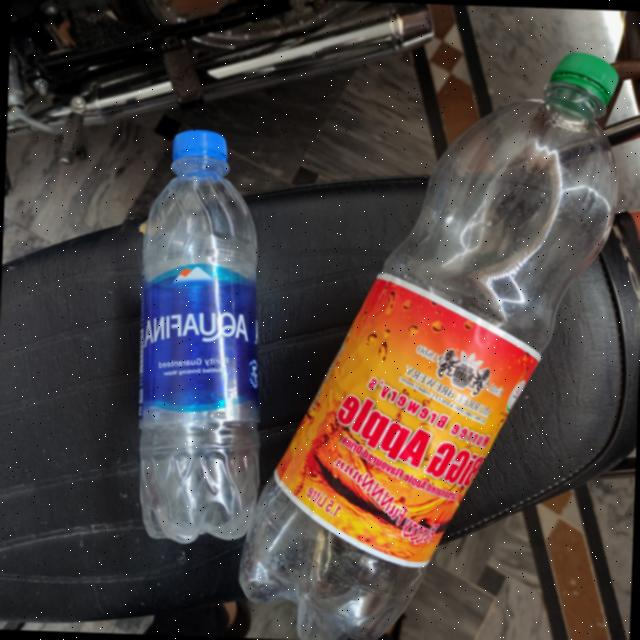bottle: (132, 118, 267, 544)
cap: (546, 50, 626, 104), (167, 122, 231, 180)
label: (304, 304, 494, 536), (134, 262, 258, 422)
